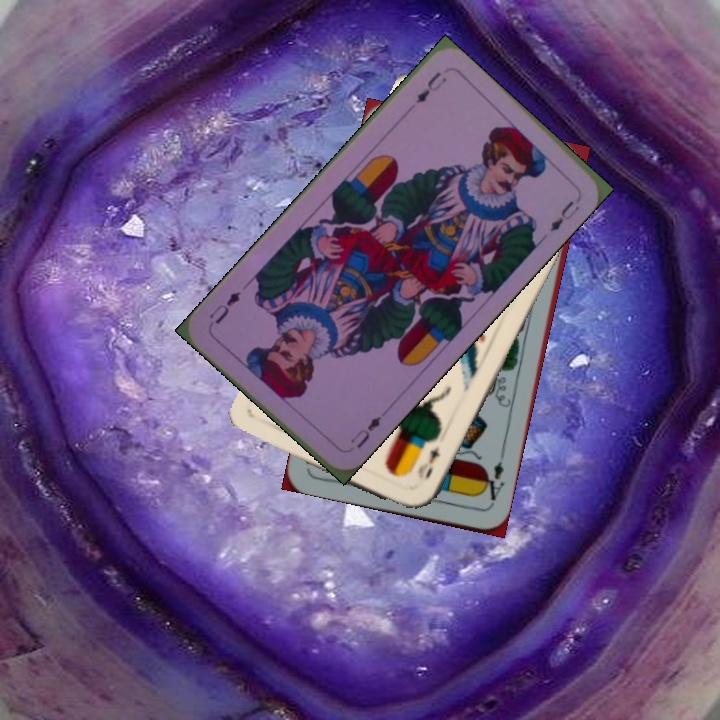EA: (477, 457, 507, 508)
EO: (413, 441, 443, 482)
EU: (411, 67, 450, 107), (346, 412, 384, 451)
